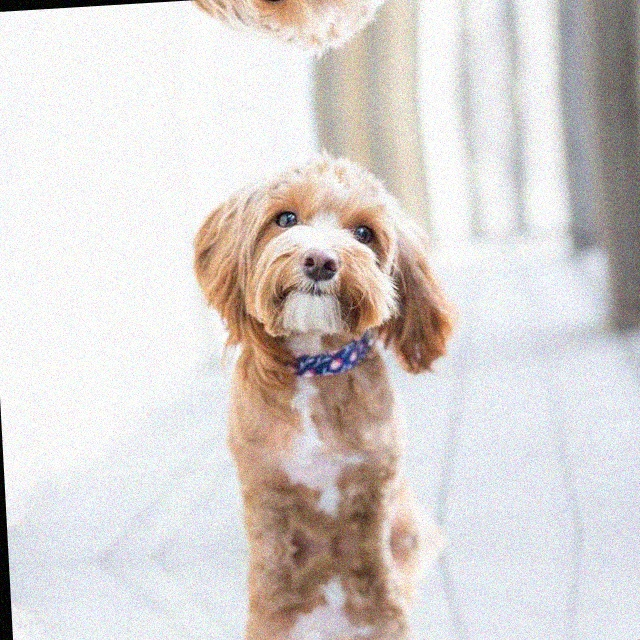dog: (172, 125, 483, 413), (165, 0, 466, 81)
